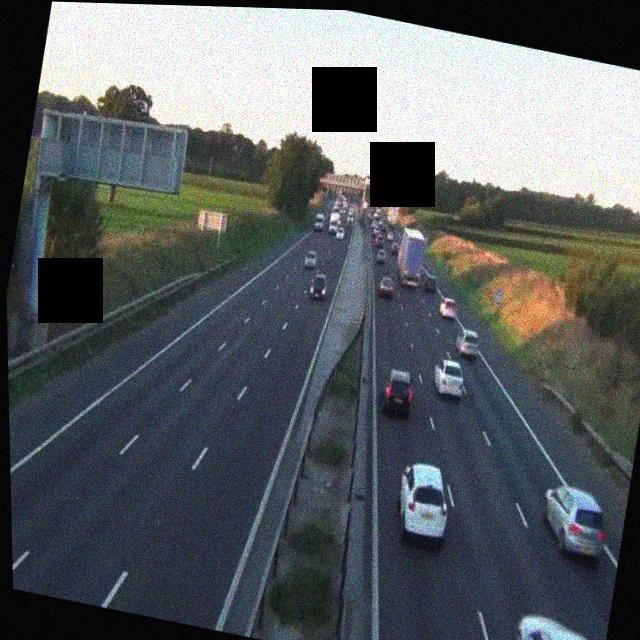car: (536, 482, 613, 562), (390, 459, 456, 546), (504, 611, 608, 640), (377, 366, 416, 418), (429, 355, 468, 401), (453, 327, 481, 359), (307, 271, 329, 302), (436, 295, 458, 320), (376, 275, 395, 300), (303, 249, 318, 271), (421, 274, 438, 292), (374, 246, 387, 264), (331, 225, 343, 238)
truck: (312, 210, 326, 232)
